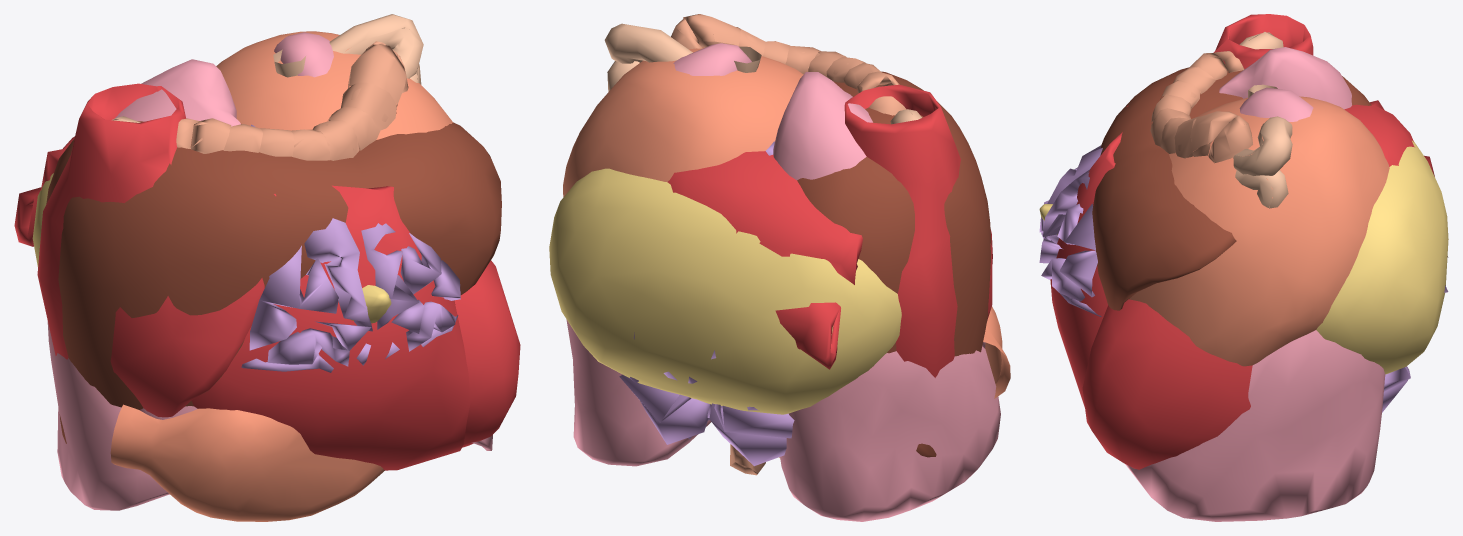
Rendered from organ.glb.
3 views of the same model, side by side, from view 1: azimuth 30°, elevation 25°; view 2: azimuth 150°, elevation 25°; view 3: azimuth 270°, elevation 25° (orthographic). The views are drawn at different scales.
Parts seen in each view (by area): view 1: hjarta, lever, magsack, hjarna, lungor, tjocktarm, tunntarm, urinblasa; view 2: urinblasa, lungor, hjarta, magsack, lever, hjarna, tjocktarm, tunntarm; view 3: magsack, lungor, hjarta, urinblasa, lever, tjocktarm, hjarna, tunntarm.
Boxes of the visible parts, x1,y1,x2,y2 form: hjarta: (14, 83, 520, 470); lever: (46, 121, 501, 443); magsack: (110, 31, 452, 521); hjarna: (241, 124, 460, 372); lungor: (47, 32, 492, 510); tjocktarm: (176, 41, 408, 160); tunntarm: (111, 14, 423, 122); urinblasa: (32, 173, 391, 323); urinblasa: (549, 168, 901, 414); lungor: (566, 43, 1000, 521); hjarta: (667, 84, 992, 377); magsack: (563, 47, 1010, 398); lever: (797, 71, 991, 457); hjarna: (619, 141, 794, 466); tjocktarm: (671, 14, 905, 475); tunntarm: (604, 23, 921, 458); magsack: (1129, 96, 1389, 366); lungor: (1125, 47, 1385, 521); hjarta: (1050, 14, 1434, 469); urinblasa: (1039, 140, 1448, 374); lever: (1092, 64, 1371, 310); tjocktarm: (1150, 51, 1252, 163); hjarna: (1039, 145, 1448, 412); tunntarm: (1233, 32, 1292, 208).
Size of the model in its own units: 1 by 1 by 1.
